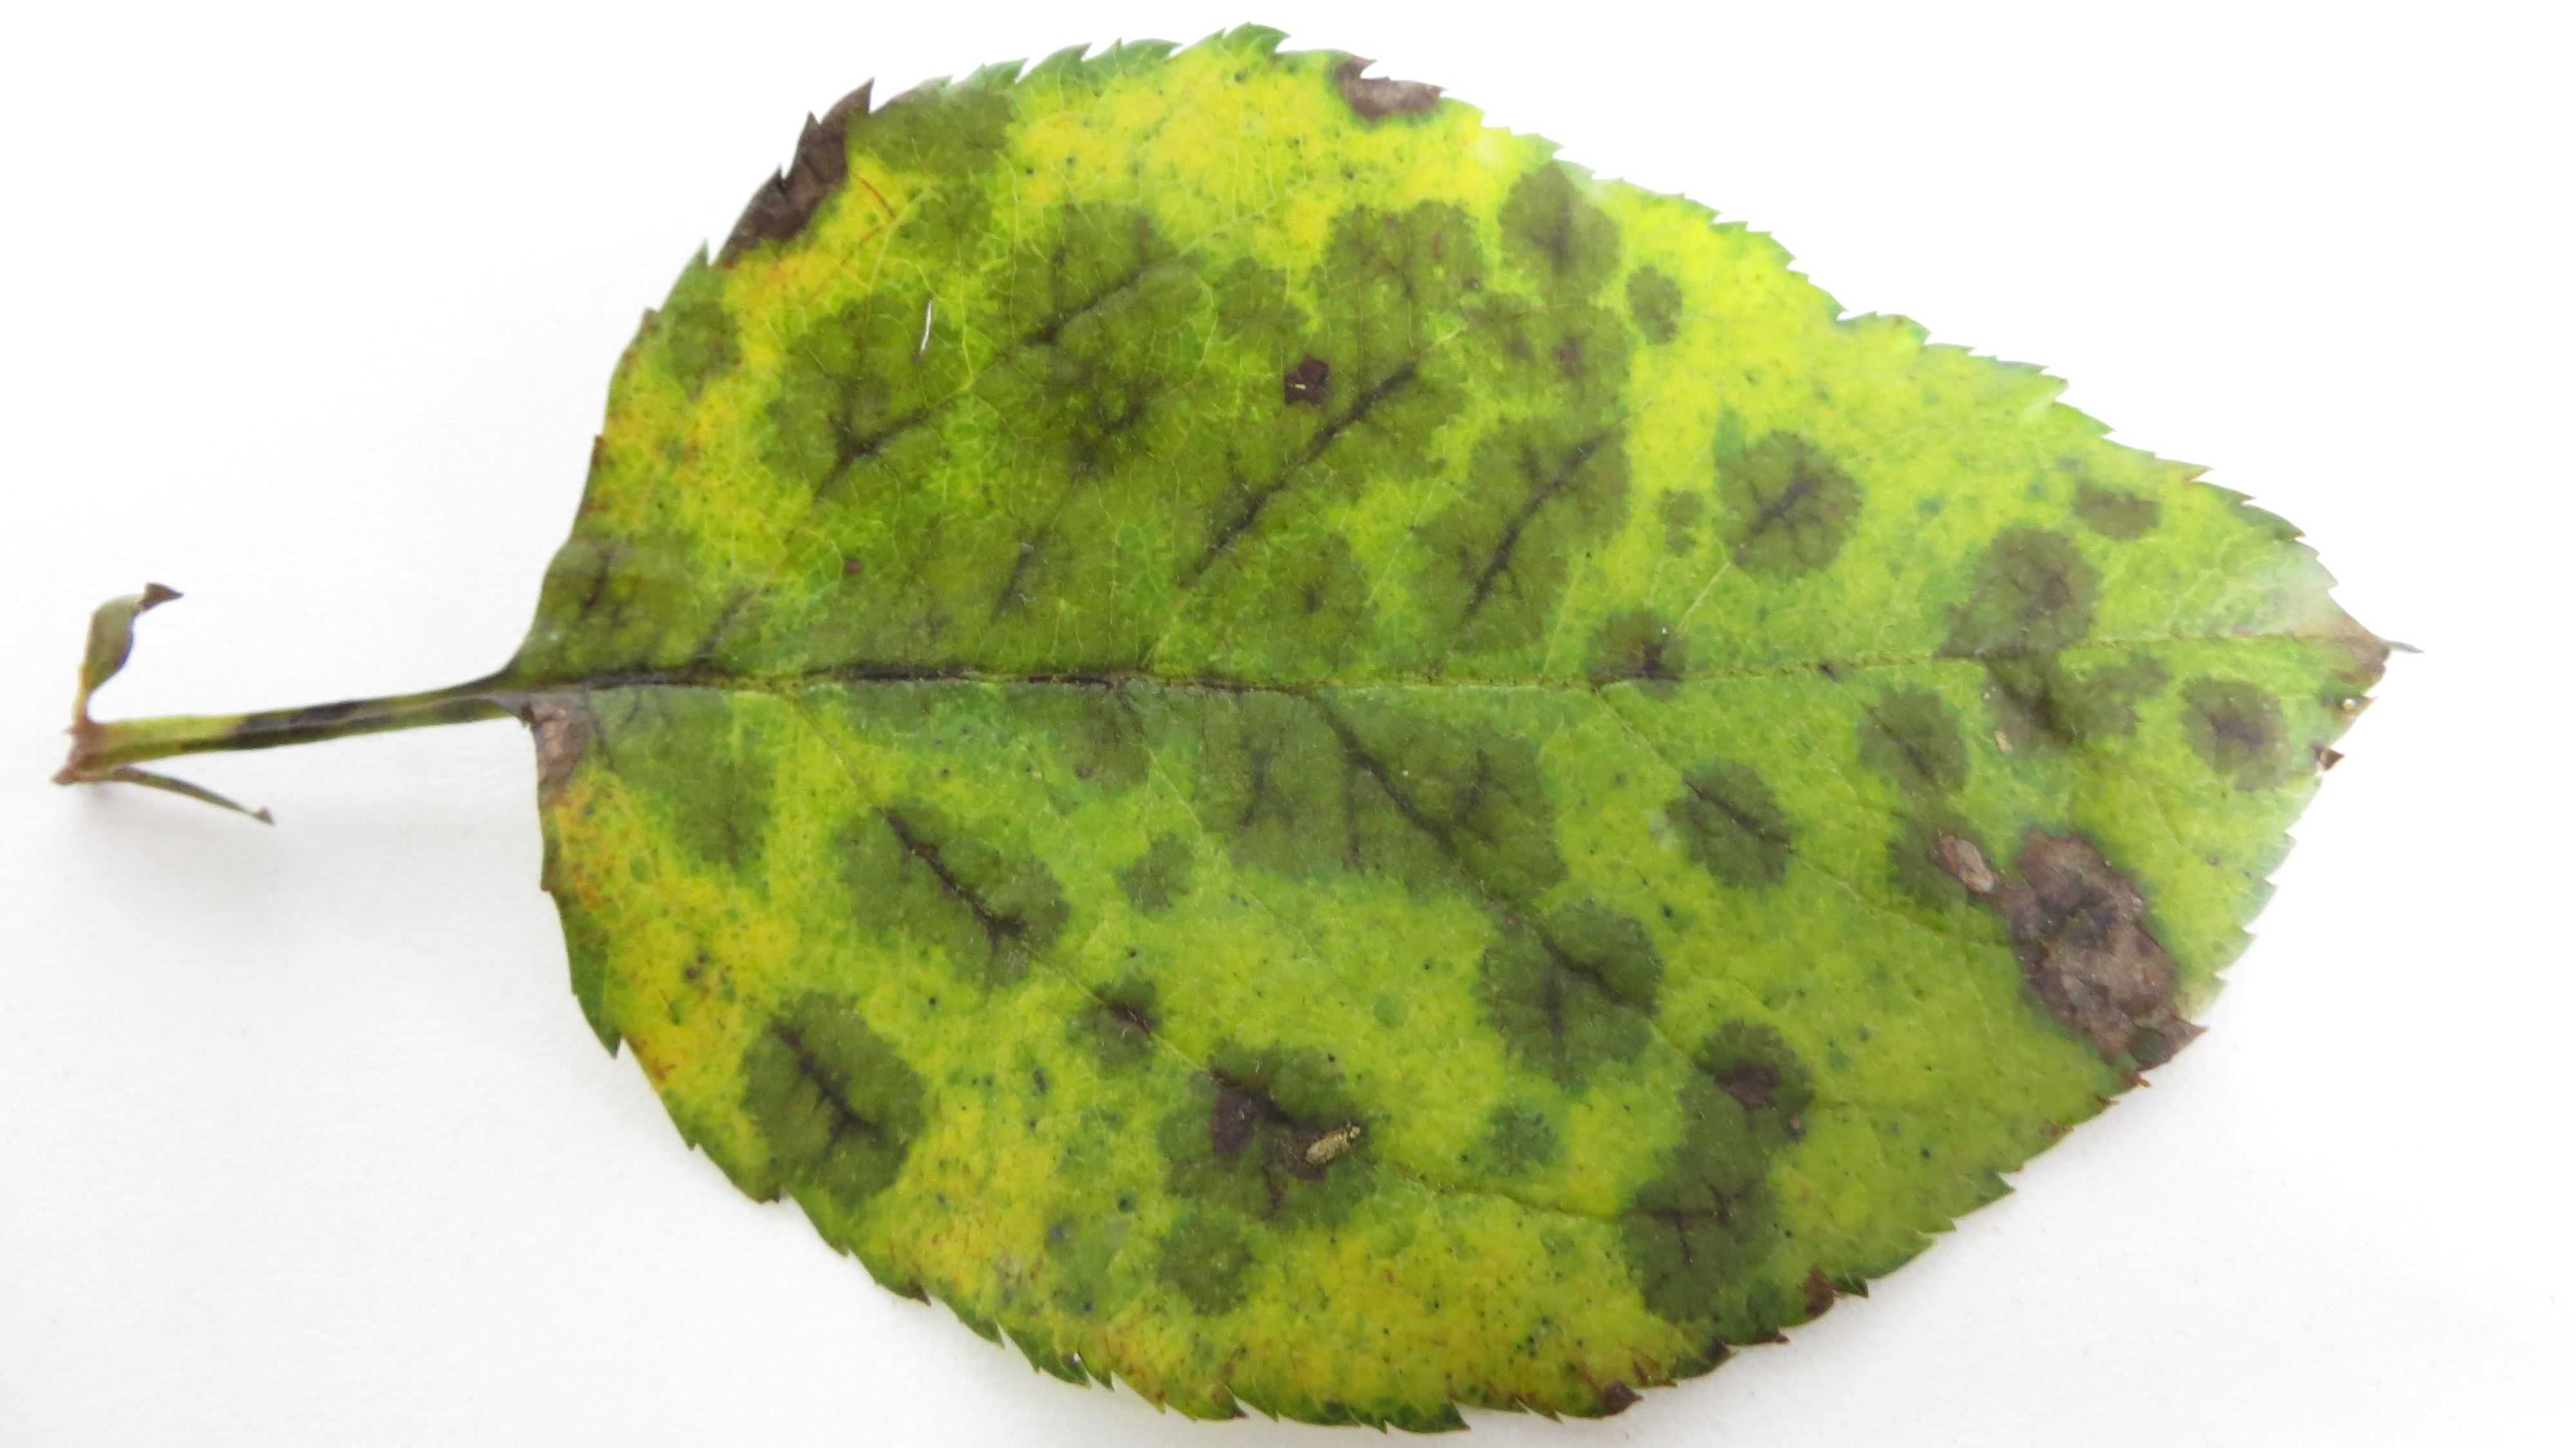sarna: (1408, 402, 1644, 666), (1315, 680, 1566, 894), (1939, 522, 2150, 772), (724, 988, 936, 1220), (1989, 816, 2181, 1067), (545, 536, 764, 749), (1292, 184, 1500, 407), (833, 793, 1076, 981), (1152, 1027, 1389, 1218), (1467, 885, 1679, 1080), (789, 506, 966, 738), (780, 306, 966, 515), (1178, 641, 1329, 873), (1693, 397, 1870, 593), (968, 188, 1191, 342), (617, 738, 807, 919), (1005, 618, 1192, 795), (1614, 1165, 1796, 1315), (1000, 335, 1166, 492), (943, 489, 1102, 648), (1665, 1014, 1829, 1163), (1652, 743, 1813, 892), (1244, 508, 1389, 669), (1488, 150, 1633, 301), (1265, 386, 1412, 526), (1171, 395, 1281, 581), (2171, 639, 2304, 789), (1435, 1069, 1569, 1216), (835, 71, 1012, 181), (720, 112, 844, 267), (1578, 597, 1734, 717), (1481, 292, 1629, 416), (1838, 671, 1971, 809), (1861, 800, 1997, 929), (1024, 1184, 1143, 1326), (1152, 1211, 1290, 1331), (1306, 35, 1456, 143), (651, 269, 752, 416), (867, 170, 987, 287), (1054, 956, 1162, 1067), (1039, 1078, 1139, 1179), (2063, 467, 2160, 551), (1614, 253, 1693, 354), (985, 1034, 1069, 1126), (1637, 458, 1698, 566)
